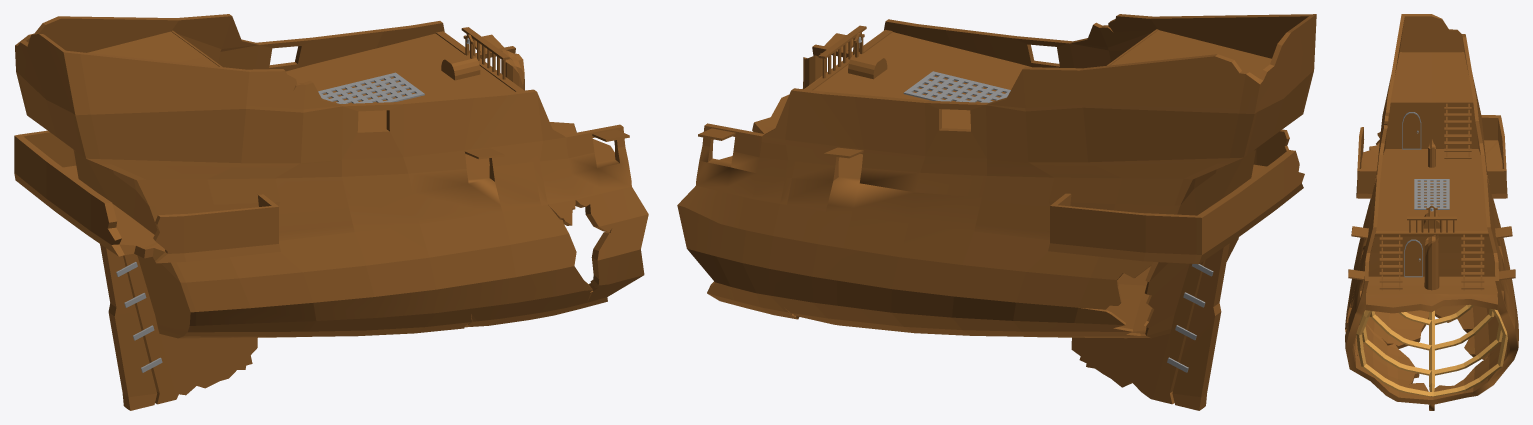
The model's file is SM_Ship_Back.fbx.
3 renders of one model, left to right at view 1: azimuth 30°, elevation 25°; view 2: azimuth 150°, elevation 25°; view 3: azimuth 270°, elevation 25°, orthographic. The views are drawn at different scales.
Parts seen in each view (by area): view 1: Ship_Back; view 2: Ship_Back; view 3: Ship_Back.
Boxes of the visible parts, <box> form: Ship_Back: <box>14,14,648,410</box>; Ship_Back: <box>677,14,1316,410</box>; Ship_Back: <box>1345,14,1518,410</box>.
Bounding box in the file's own units: 122 × 55.78 × 85.11.
